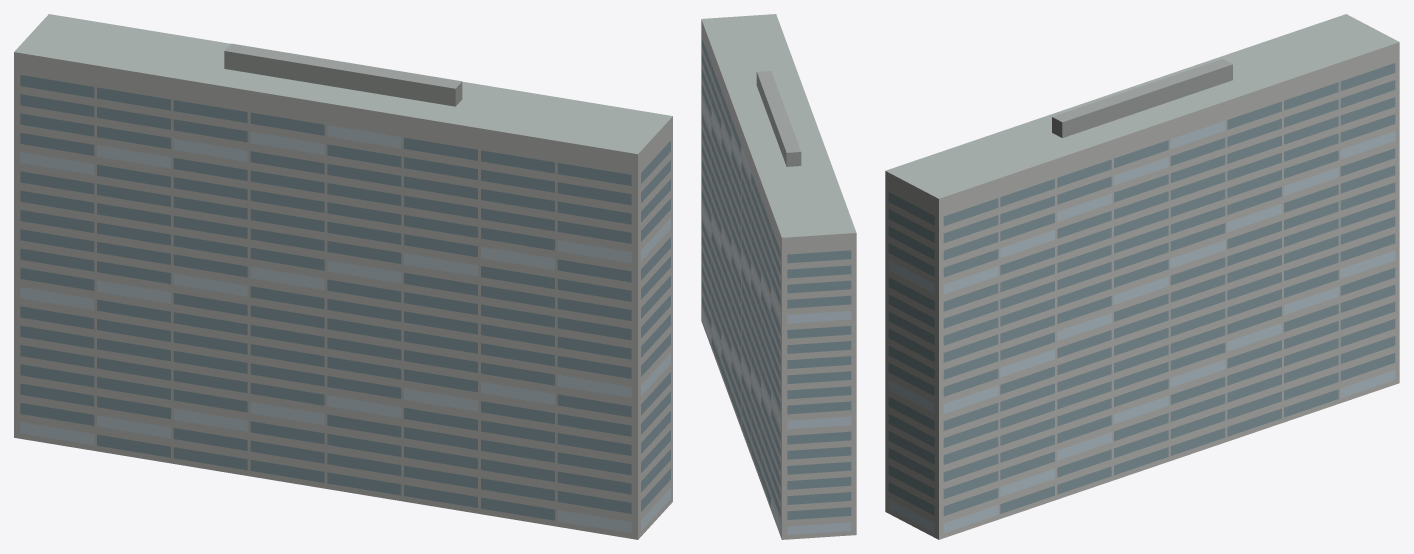
Rendered from apt-a15807204.glb.
The picture shows the model from 3 angles, left to right: view 1: azimuth 30°, elevation 25°; view 2: azimuth 150°, elevation 25°; view 3: azimuth 270°, elevation 25°; orthographic projection. The views are drawn at different scales.
Parts seen in each view (by area): view 1: apt-a15807204; view 2: apt-a15807204; view 3: apt-a15807204.
Part boxes in pixels (box(x1,y1,x2,y2)): apt-a15807204: box(14, 14, 672, 539); apt-a15807204: box(701, 14, 856, 539); apt-a15807204: box(885, 14, 1399, 539).
Bounding box in the file's own units: 60 × 54 × 70.55.
